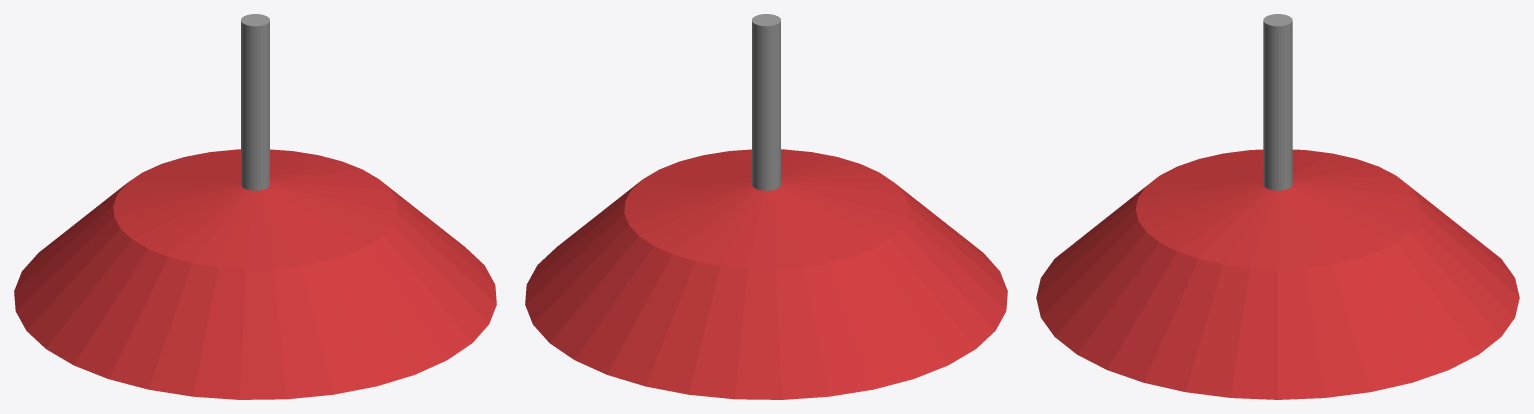
The model's file is LamparaTecho.fbx.
3 renders of one model, left to right at view 1: azimuth 30°, elevation 25°; view 2: azimuth 150°, elevation 25°; view 3: azimuth 270°, elevation 25°, orthographic.
Parts seen in each view (by area): view 1: Cilindro; view 2: Cilindro; view 3: Cilindro.
Part boxes in pixels (bbox=[...]): Cilindro: bbox=[14, 14, 496, 399]; Cilindro: bbox=[525, 14, 1007, 399]; Cilindro: bbox=[1036, 14, 1519, 399].
Size of the model in its own units: 812 by 534 by 812.
